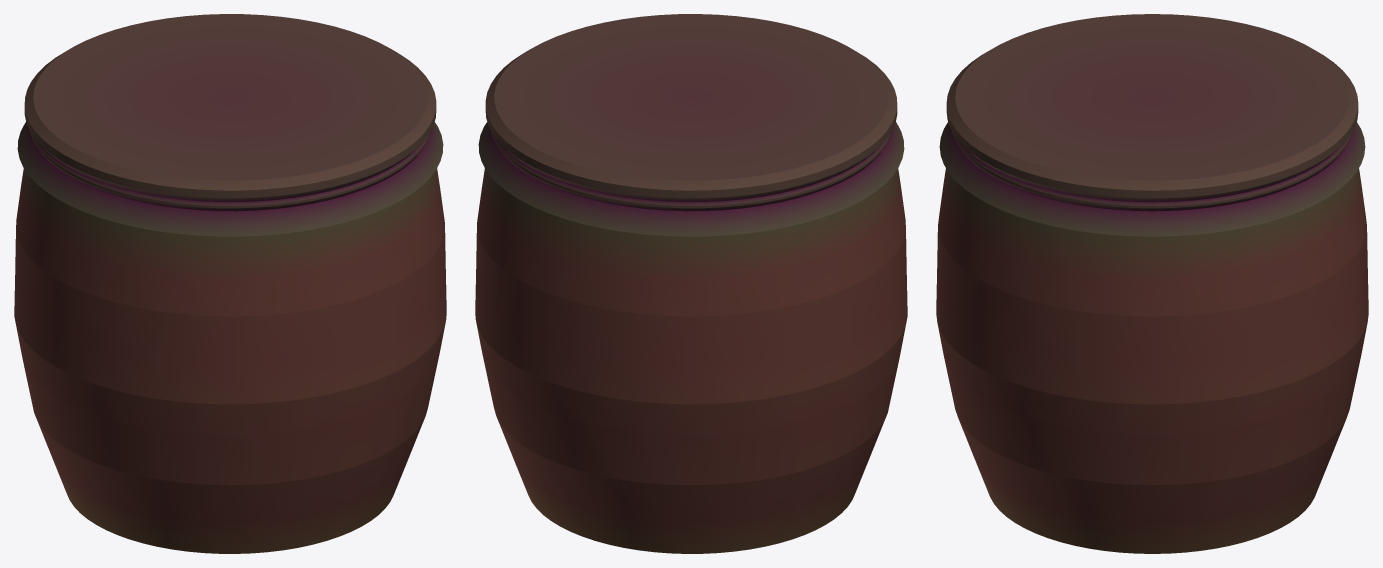
The picture shows the model from 3 angles, left to right: view 1: azimuth 30°, elevation 25°; view 2: azimuth 150°, elevation 25°; view 3: azimuth 270°, elevation 25°; orthographic projection.
Parts seen in each view (by area): view 1: body, cap; view 2: body, cap; view 3: body, cap.
Boxes of the visible parts, x1,y1,x2,y2 form: body: (14, 168, 446, 553); cap: (17, 14, 443, 236); body: (475, 168, 907, 553); cap: (478, 14, 904, 236); body: (936, 168, 1368, 553); cap: (939, 14, 1365, 236).
Size of the model in its own units: 0.5 by 0.4933 by 0.5.
